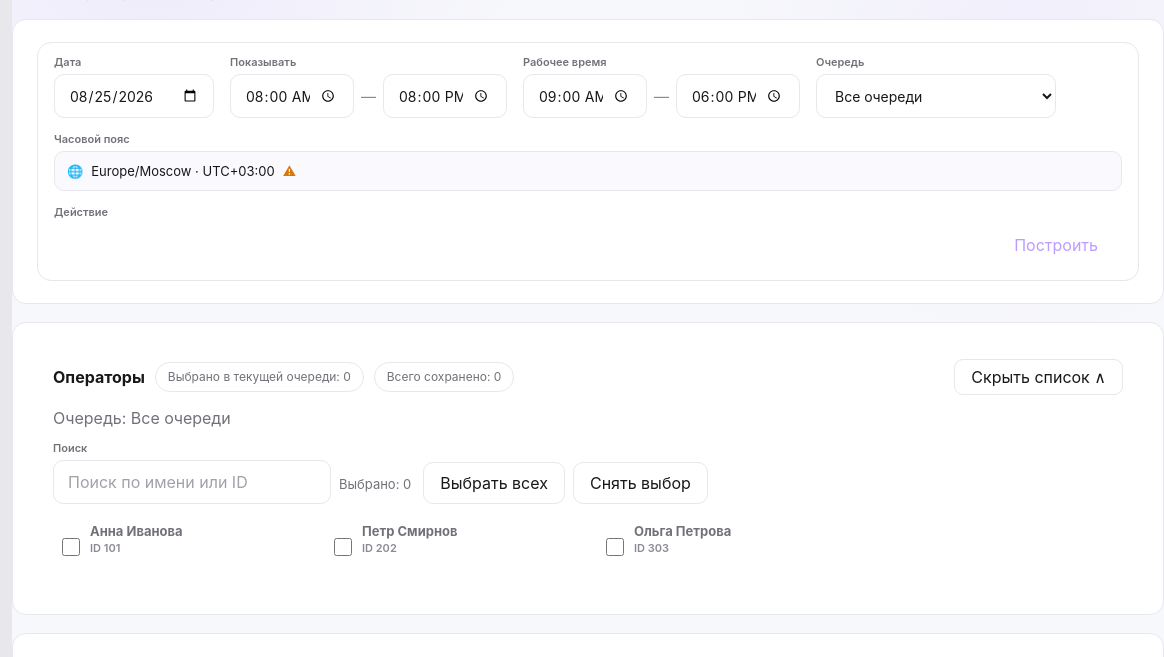
Test: TimelinePage component behavior › disables build when selected queue has no selected operators
Expected: the text "Анна Иванова" is shown, [90,523,182,539]
Step 1. Select "Линия B (1)" in the dropdown with test id "timeline-queue-select" → (936, 96), box [816,74,1056,118]
(page scrolled)
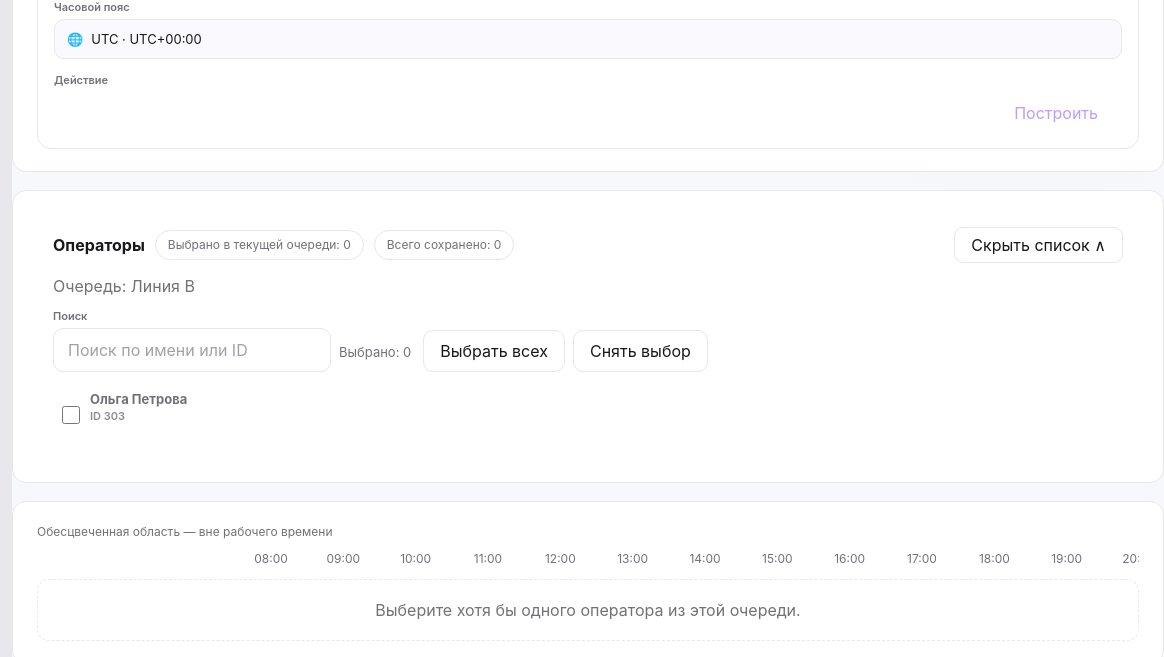
Expected: the button "Построить" is disabled, [990,92,1122,134]
Expected: the text "Выберите хотя бы одного оператора из этой очереди." is shown, [37,579,1139,641]
